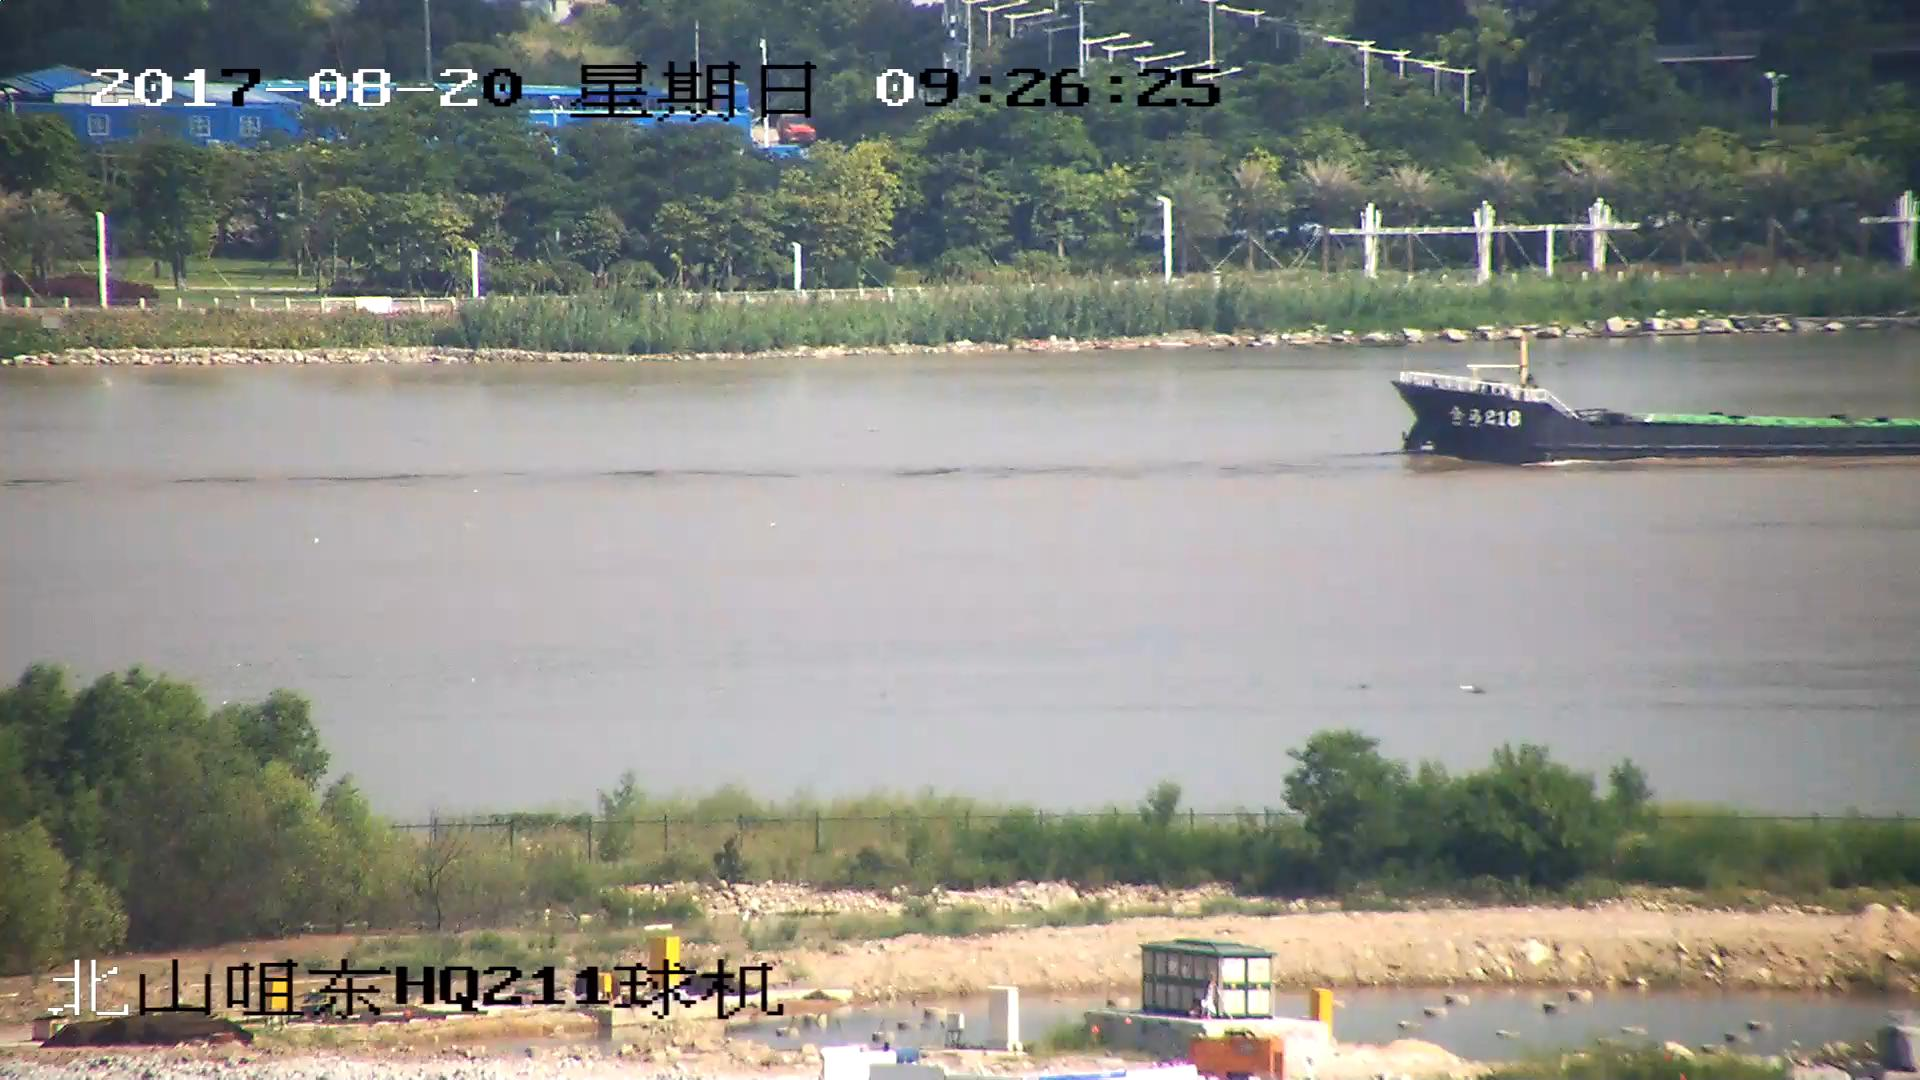general cargo ship: (1395, 368, 1920, 464)
